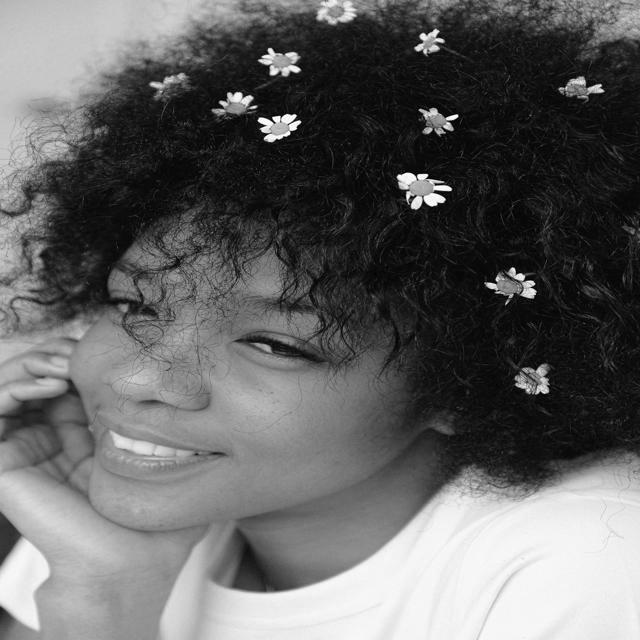Happiness: (68, 203, 392, 535)
